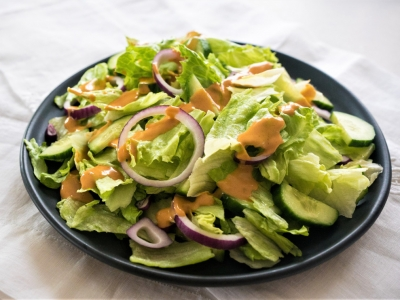chopped lettuce: (273, 107, 368, 210), (177, 39, 279, 91)
